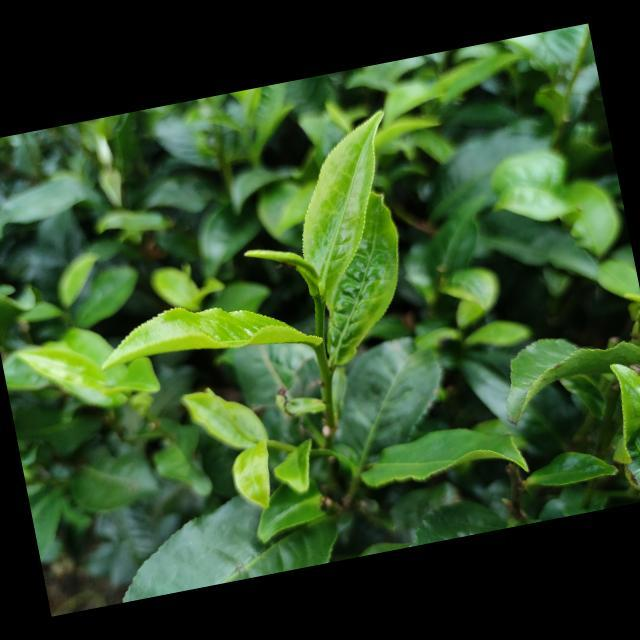Stem: (315, 304, 323, 318)
